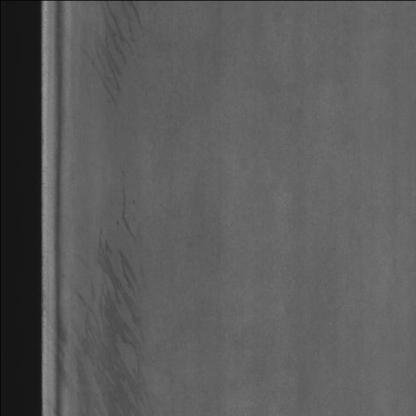water_spot: (66, 202, 151, 416), (90, 12, 168, 102)
